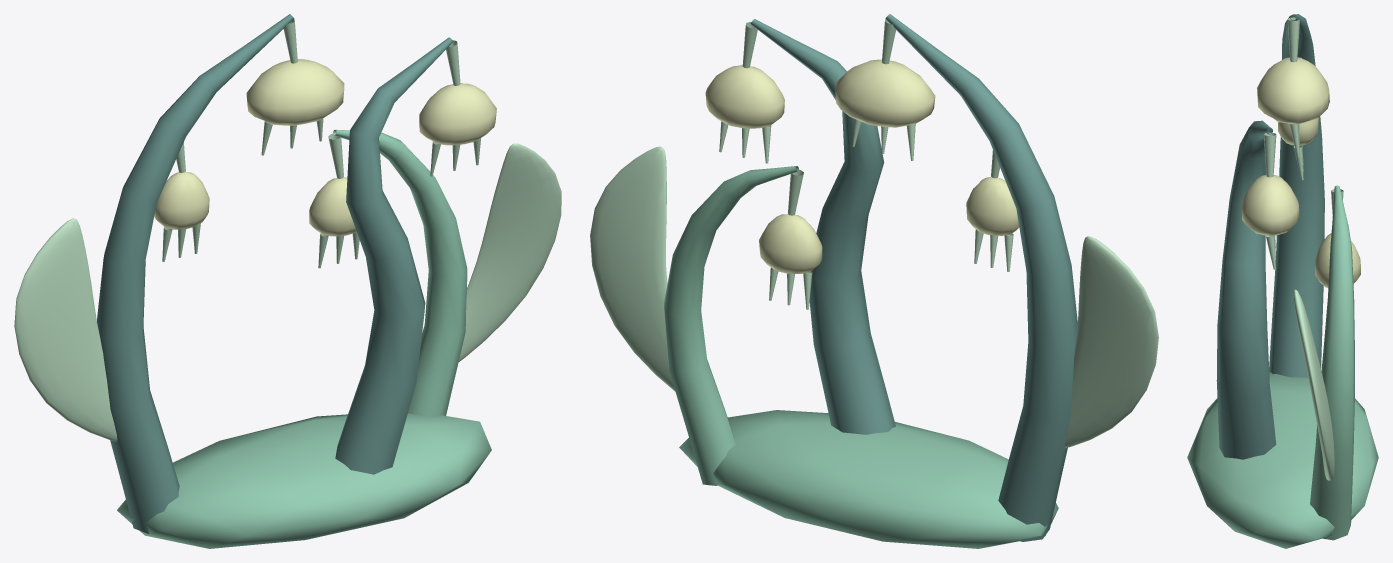
File: kelp_lantern_cluster.glb
3 views of the same model, side by side, from view 1: azimuth 30°, elevation 25°; view 2: azimuth 150°, elevation 25°; view 3: azimuth 270°, elevation 25° (orthographic). The views are drawn at different scales.
Parts seen in each view (by area): view 1: lantern_holdfast, lantern_kelp_0, lantern_kelp_1, lantern_leaf_0, lantern_leaf_1, lantern_kelp_2, bell_pod_0, bell_pod_1, bell_pod_3, bell_pod_2; view 2: lantern_holdfast, lantern_kelp_0, lantern_kelp_1, lantern_leaf_1, lantern_leaf_0, lantern_kelp_2, bell_pod_0, bell_pod_1, bell_pod_2, bell_pod_3; view 3: lantern_holdfast, lantern_kelp_1, lantern_kelp_0, lantern_kelp_2, bell_pod_0, bell_pod_1, lantern_leaf_1, bell_pod_2, bell_pod_3, pod_cord_1, pod_cord_0.
Boxes of the visible parts, x1=… form: lantern_holdfast: x1=117, y1=413, x2=491, y2=548; lantern_kelp_0: x1=97, y1=14, x2=293, y2=533; lantern_kelp_1: x1=335, y1=37, x2=453, y2=474; lantern_leaf_0: x1=14, y1=218, x2=117, y2=441; lantern_leaf_1: x1=458, y1=143, x2=561, y2=361; lantern_kelp_2: x1=333, y1=129, x2=467, y2=416; bell_pod_0: x1=246, y1=59, x2=344, y2=125; bell_pod_1: x1=419, y1=83, x2=496, y2=145; bell_pod_3: x1=154, y1=171, x2=209, y2=229; bell_pod_2: x1=309, y1=177, x2=356, y2=236; lantern_holdfast: x1=679, y1=410, x2=1058, y2=548; lantern_kelp_0: x1=885, y1=14, x2=1077, y2=541; lantern_kelp_1: x1=750, y1=19, x2=895, y2=434; lantern_leaf_1: x1=590, y1=146, x2=675, y2=391; lantern_leaf_0: x1=1064, y1=236, x2=1158, y2=448; lantern_kelp_2: x1=664, y1=166, x2=799, y2=485; bell_pod_0: x1=835, y1=59, x2=935, y2=127; bell_pod_1: x1=705, y1=65, x2=784, y2=128; bell_pod_2: x1=759, y1=214, x2=822, y2=273; bell_pod_3: x1=966, y1=177, x2=1019, y2=235; lantern_holdfast: x1=1187, y1=372, x2=1378, y2=548; lantern_kelp_1: x1=1216, y1=120, x2=1276, y2=459; lantern_kelp_0: x1=1269, y1=14, x2=1324, y2=377; lantern_kelp_2: x1=1310, y1=185, x2=1354, y2=540; bell_pod_0: x1=1257, y1=57, x2=1329, y2=124; bell_pod_1: x1=1241, y1=175, x2=1299, y2=236; lantern_leaf_1: x1=1293, y1=289, x2=1334, y2=480; bell_pod_2: x1=1315, y1=233, x2=1360, y2=287; bell_pod_3: x1=1278, y1=117, x2=1318, y2=145; pod_cord_1: x1=1263, y1=132, x2=1276, y2=177; pod_cord_0: x1=1287, y1=17, x2=1299, y2=62.
Bounding box in the file's own units: 7.57 × 6.54 × 2.42.
